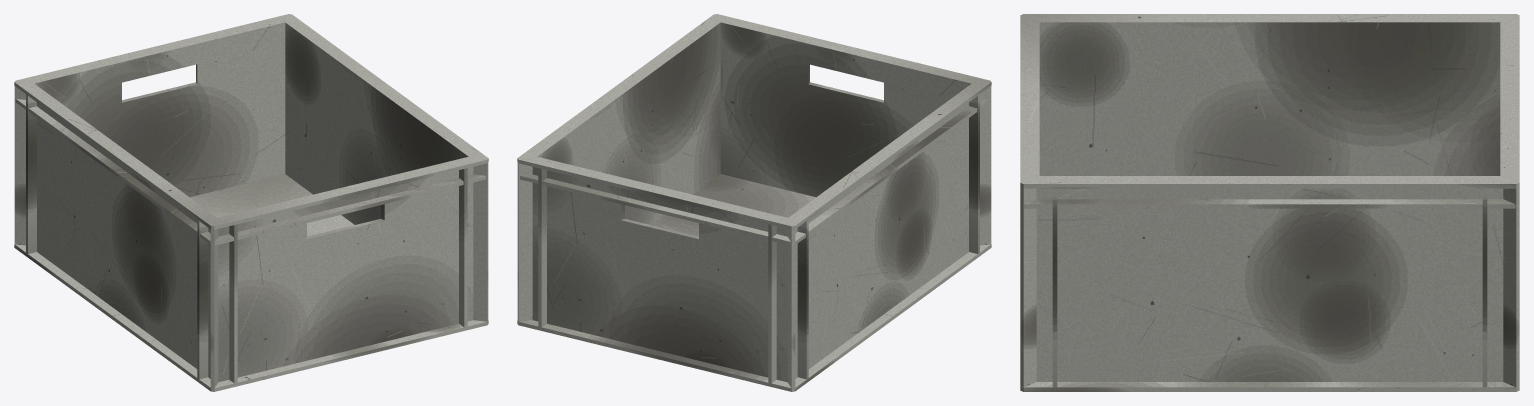
Rendered from StackableBox.glb.
The picture shows the model from 3 angles, left to right: view 1: azimuth 30°, elevation 25°; view 2: azimuth 150°, elevation 25°; view 3: azimuth 270°, elevation 25°; orthographic projection. The views are drawn at different scales.
Visible parts, largest first — view 1: StackableBox; view 2: StackableBox; view 3: StackableBox.
Boxes of the visible parts, box(x1,y1,x2,y2) form: StackableBox: box(14, 14, 488, 391); StackableBox: box(517, 14, 991, 391); StackableBox: box(1020, 14, 1519, 391).
Bounding box in the file's own units: 0.6224 × 0.3548 × 0.7724.
Materials: 1 (1 with a texture image).
